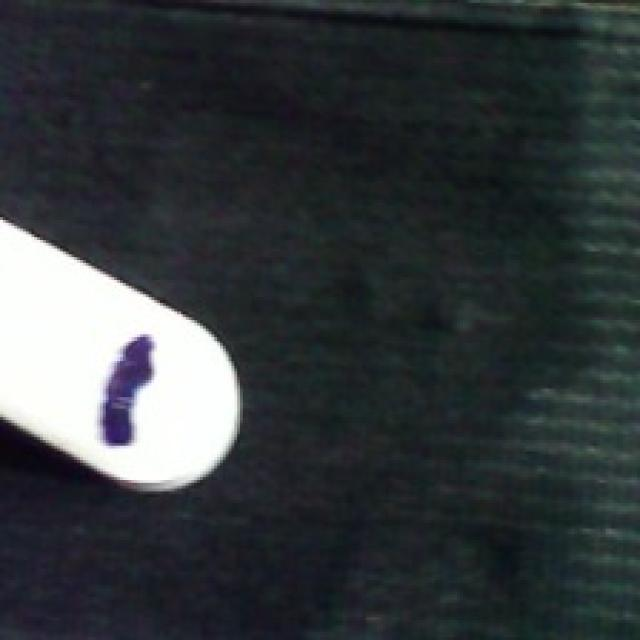defected: (0, 211, 243, 500)
